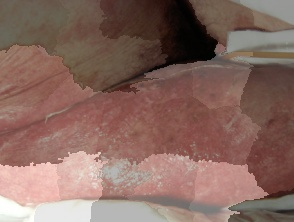SJS-TEN: (0, 55, 294, 208)
